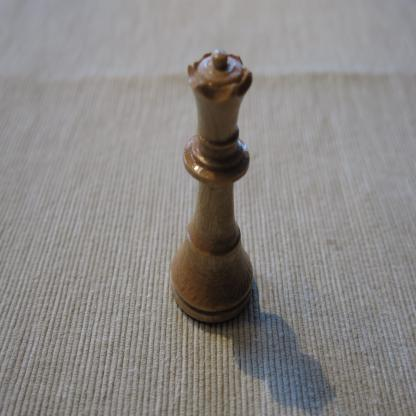white-queen: (169, 48, 254, 327)
